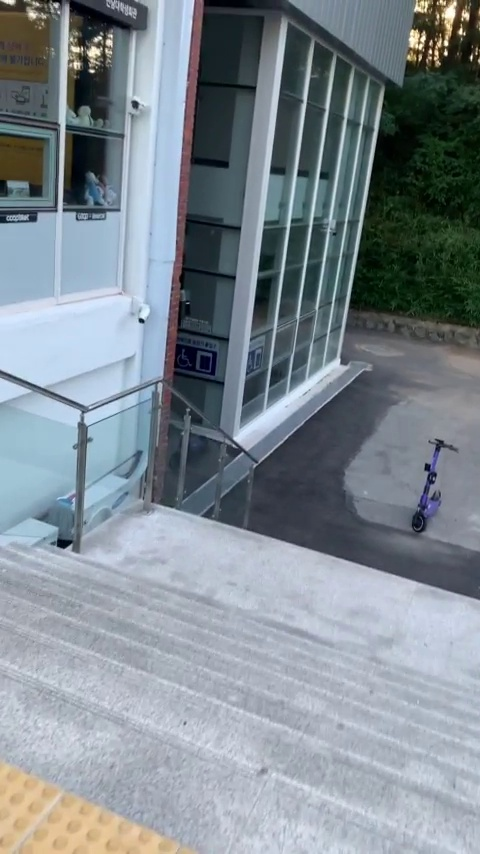beam: (405, 432, 465, 538)
